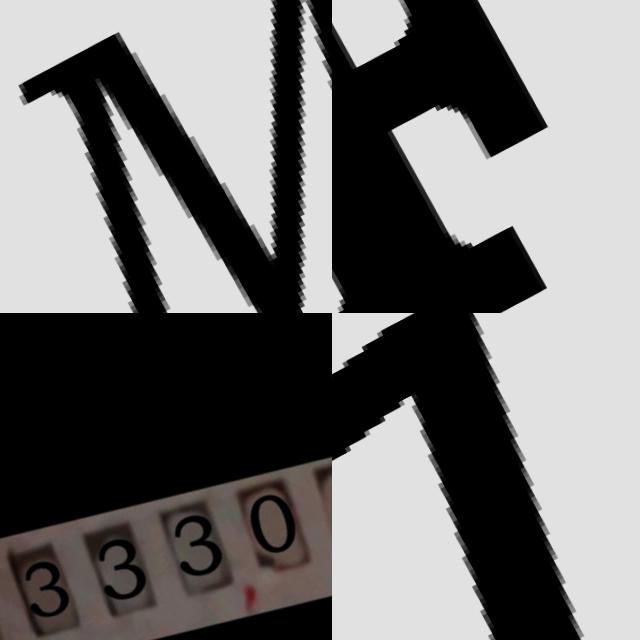0: (209, 468, 318, 584)
1: (332, 313, 640, 640), (289, 449, 332, 565)
3: (56, 510, 168, 631), (134, 489, 243, 605), (0, 533, 86, 640)
F: (332, 0, 640, 313)
M: (0, 0, 332, 313)
